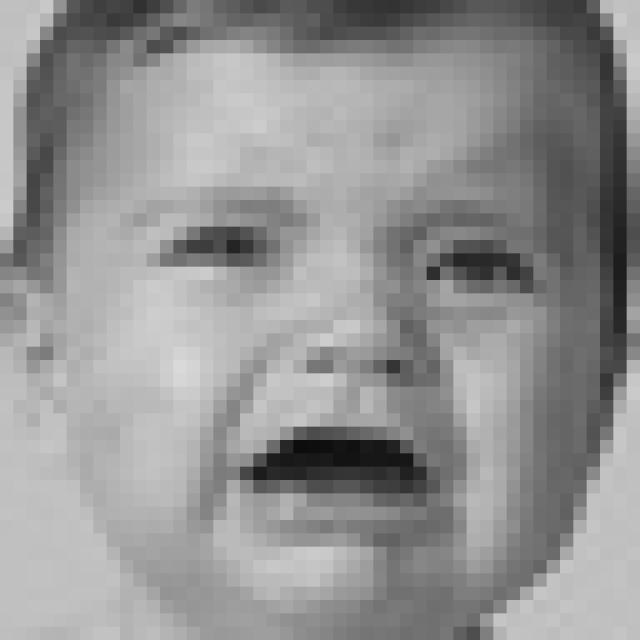sad: (119, 179, 568, 552)
